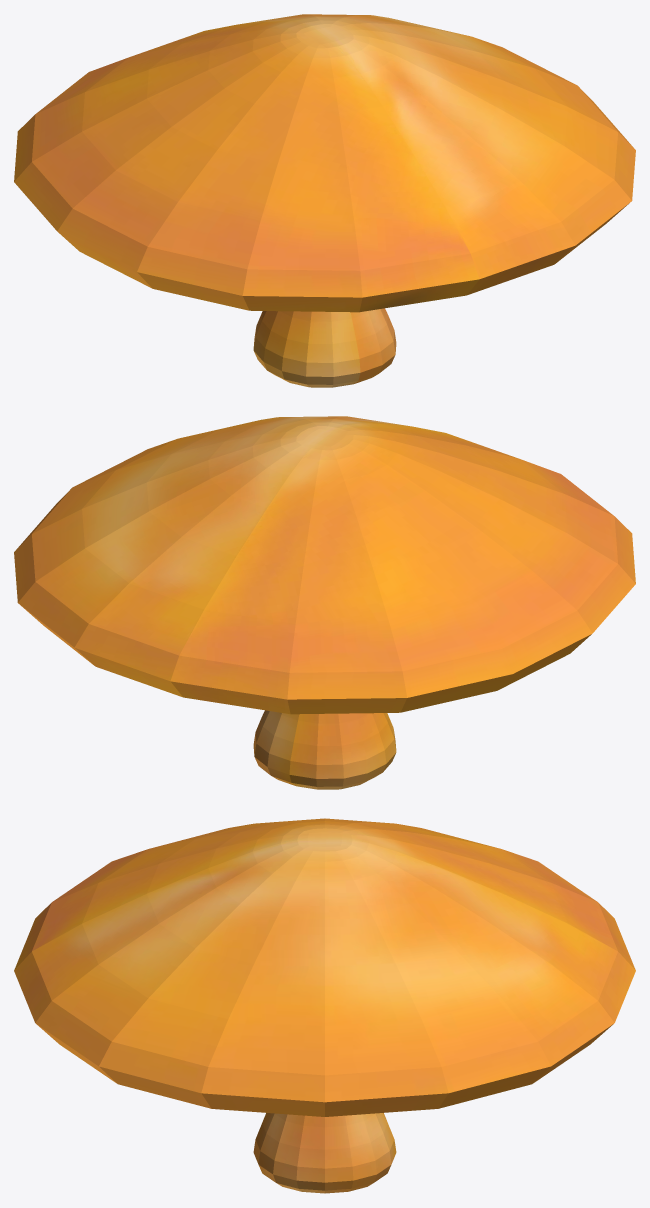
Rendered from mushroom6.glb.
3 views of the same model, one above another, from view 1: azimuth 30°, elevation 25°; view 2: azimuth 150°, elevation 25°; view 3: azimuth 270°, elevation 25° (orthographic).
Visible parts, largest first — view 1: hongo_6; view 2: hongo_6; view 3: hongo_6.
Boxes of the visible parts, box(x1,y1,x2,y2) form: hongo_6: box(14, 14, 635, 387); hongo_6: box(14, 416, 635, 789); hongo_6: box(14, 818, 635, 1193).
Bounding box in the file's own units: 2 × 1.2 × 2.
1 material, 1 textured.
